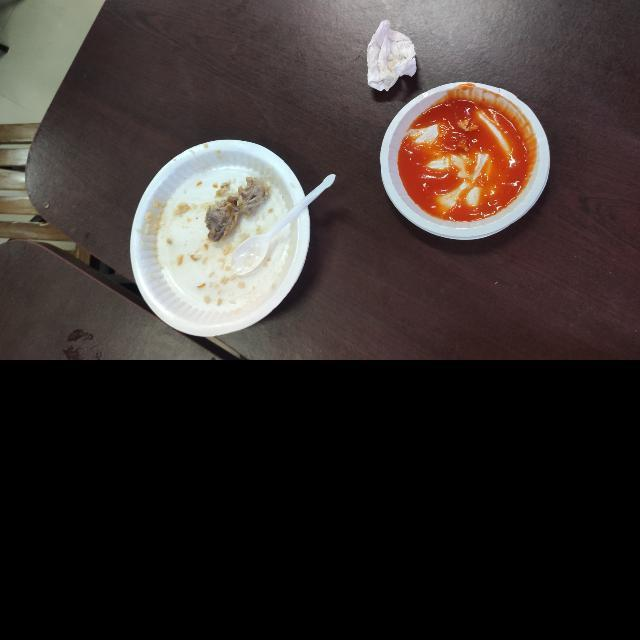kitchen paper: (366, 19, 416, 87)
